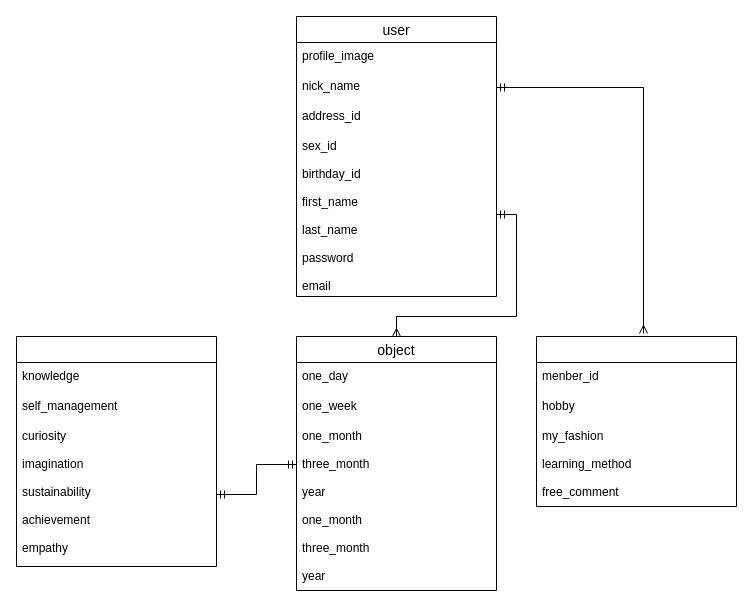
The diagram is 753 pixels wide and 607 high, and some of its shapes have lost their labels. The box of each missing label's shape, as (x1, y1, x2, y2) in pixels:
circle: (536, 336, 736, 506)
status: (16, 336, 216, 566)
